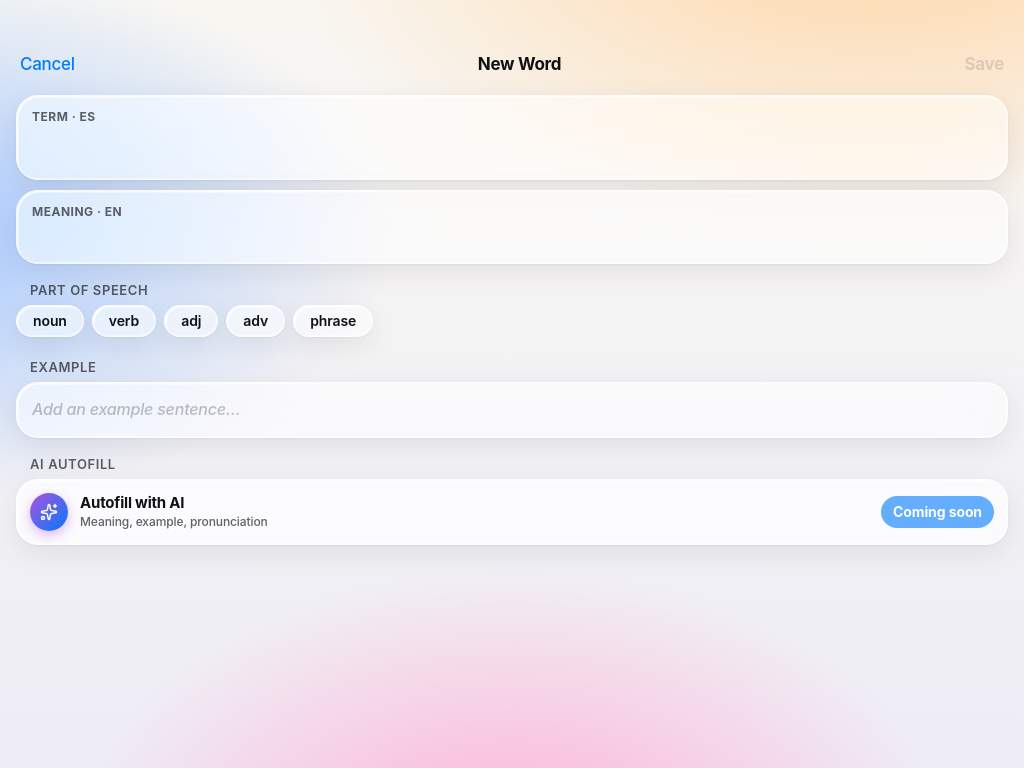
Test case: AddWordModal › Save button validation › should be enabled when both Term and Meaning have at least 1 character
Type "hello" into the field named "term in es" at x=512, y=148, box [32,131,992,164]
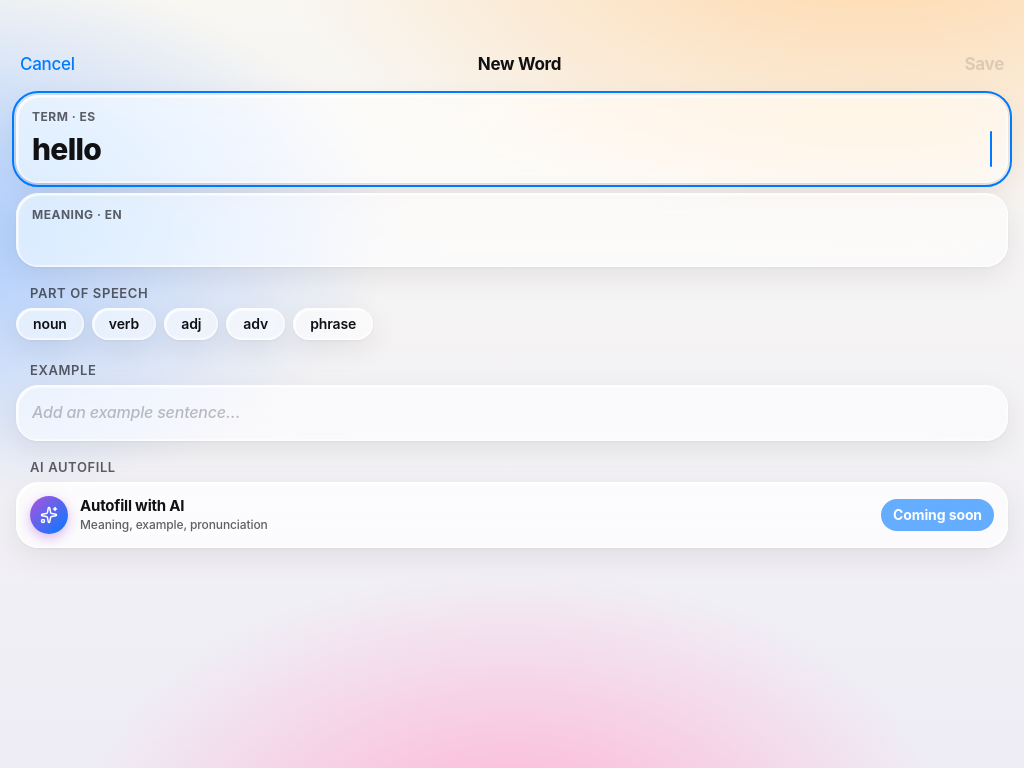
Type "hola" into the field named "meaning in en" at x=512, y=240, box [32,229,992,251]
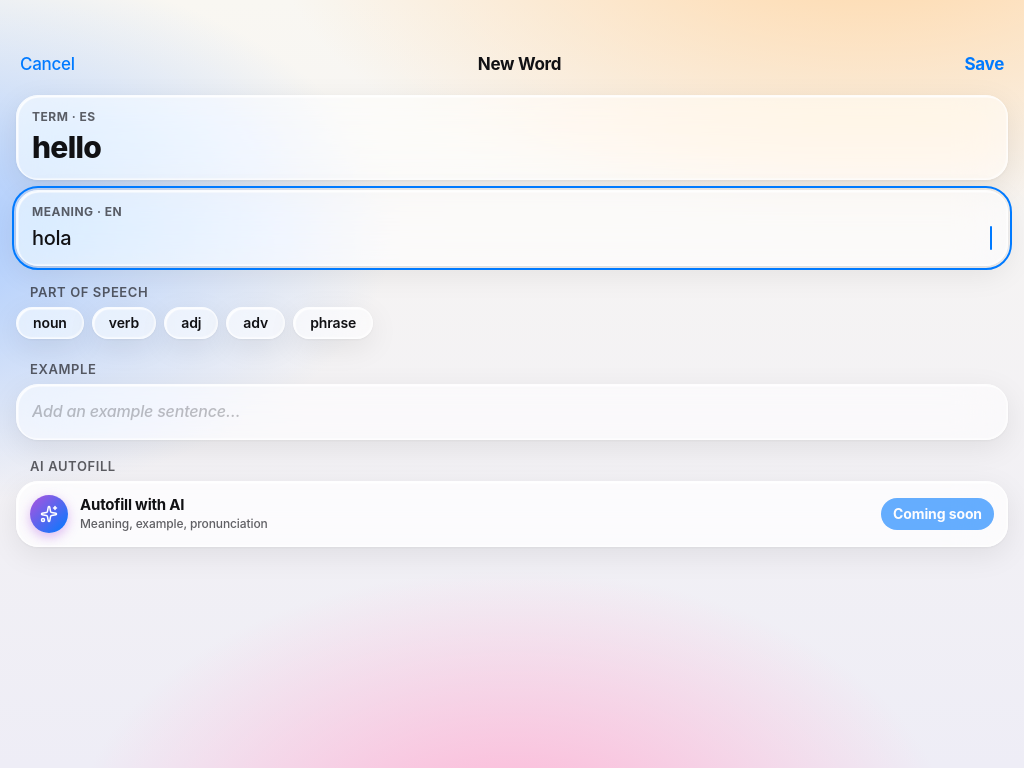
Expected: the button "Save" is enabled, [964,56,1004,73]
